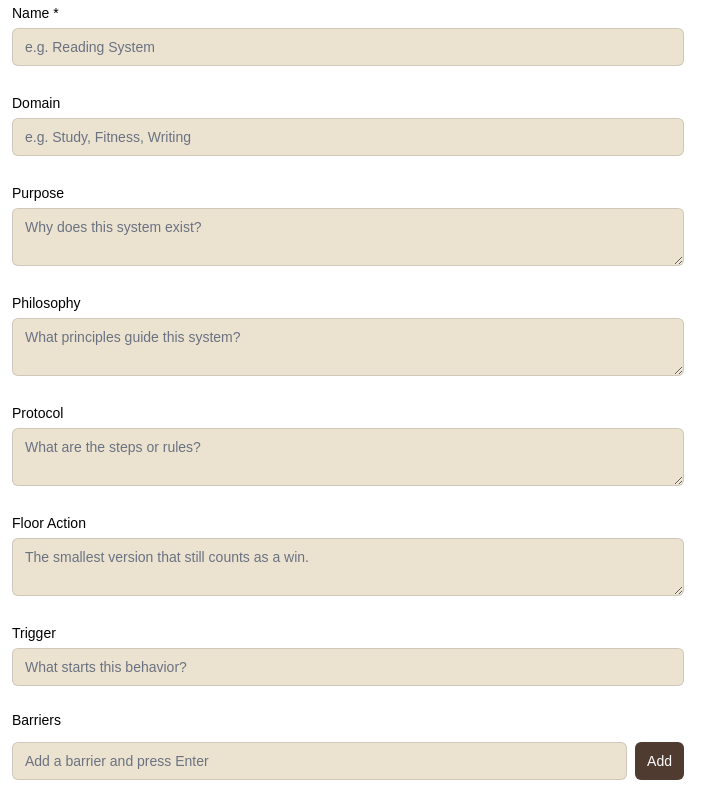
Scenario: SystemForm validation › submit button is enabled when name is filled
Type "Reading System" into the field labelled "Name *" at (348, 47), box [12,28,684,66]
(page scrolled)
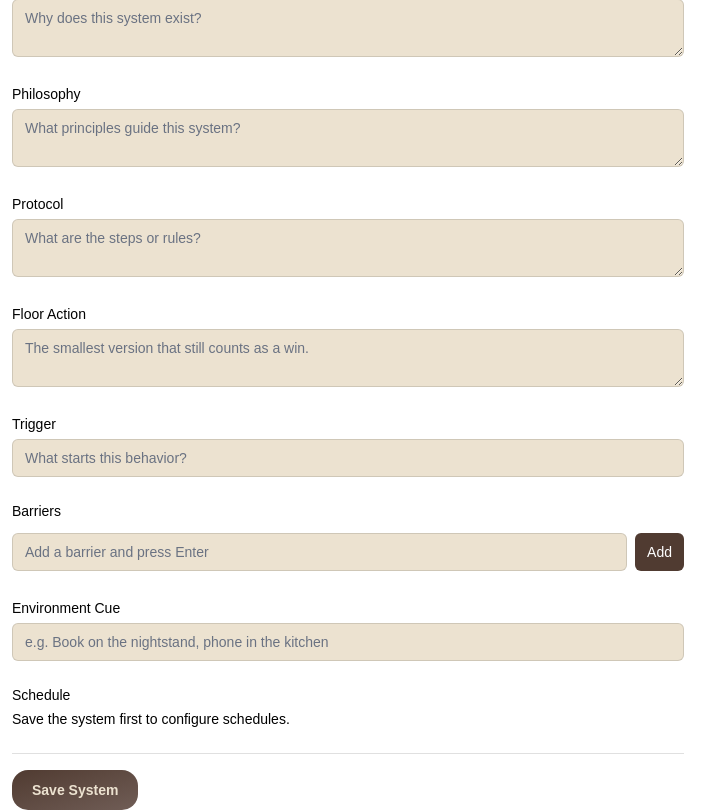
Now the button "Save System" is enabled, box [12,770,138,809]
